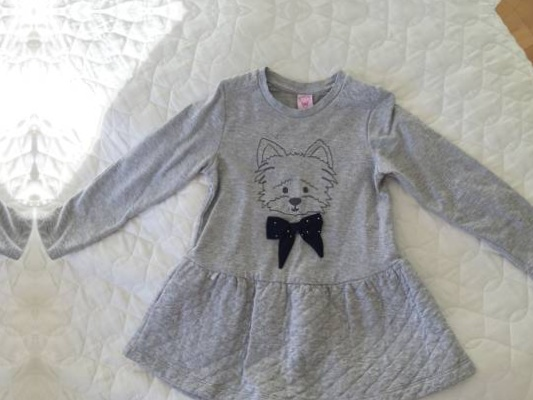Dress: (51, 79, 533, 400), (0, 81, 18, 400)
